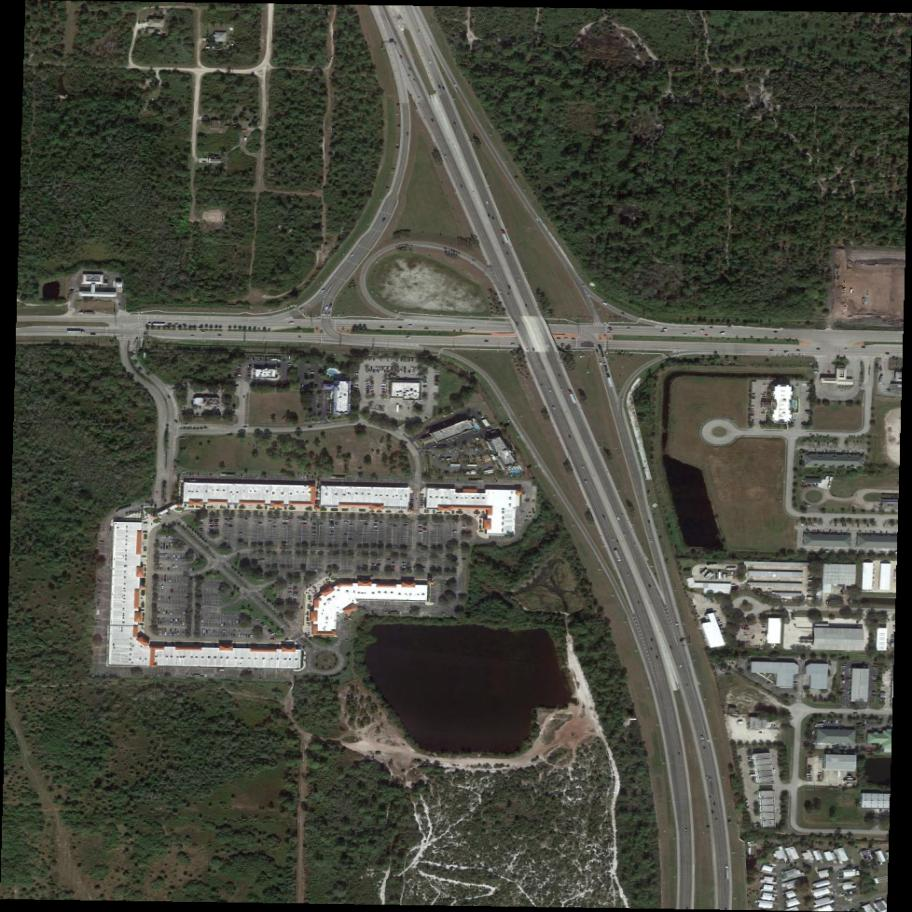large-vehicle: (567, 389, 578, 405), (500, 230, 510, 244), (614, 549, 623, 563)
